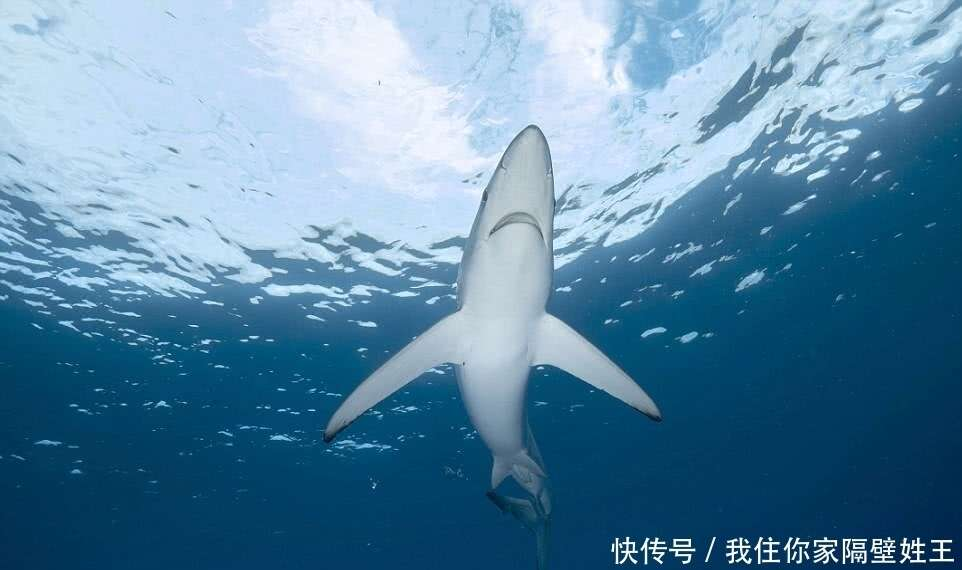shark: (308, 111, 684, 519)
